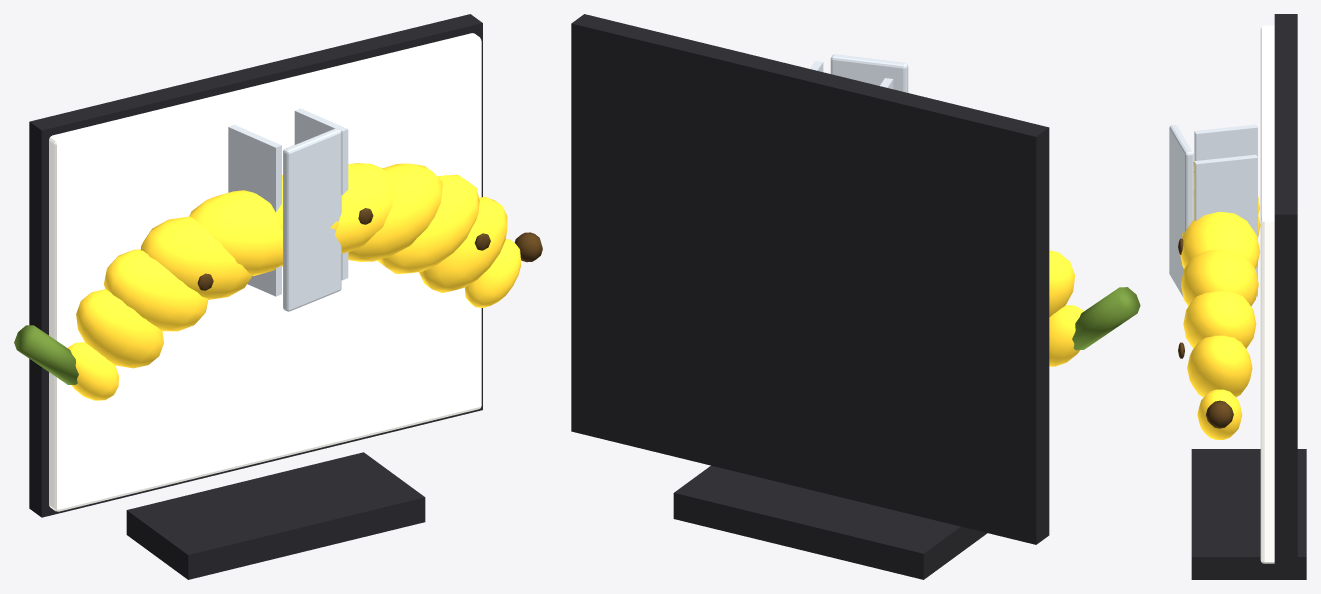
File: platano.glb
The picture shows the model from 3 angles, left to right: view 1: azimuth 30°, elevation 25°; view 2: azimuth 150°, elevation 25°; view 3: azimuth 270°, elevation 25°; orthographic projection. The views are drawn at different scales.
Visible parts, largest first — view 1: platano_panel, platano_pie_panel, platano_panel_marco, platano_cinta, platano_gajo_2, platano_gajo_3, platano_gajo_4, platano_gajo_1, platano_gajo_7, platano_gajo_8, platano_cinta_lado_0, platano_gajo_9 (+5 smaller); view 2: platano_panel_marco, platano_pie_panel, platano_rabito, platano_cinta, platano_gajo_0, platano_gajo_1; view 3: platano_panel_marco, platano_pie_panel, platano_panel, platano_cinta_lado_1, platano_gajo_9, platano_gajo_7, platano_gajo_8, platano_cinta, platano_gajo_6, platano_cinta_lado_0, platano_gajo_10, platano_punta.
Boxes of the visible parts, left/top/right/bottom form: platano_panel: left=49, top=33, right=481, bottom=511; platano_pie_panel: left=126, top=452, right=425, bottom=579; platano_panel_marco: left=29, top=14, right=482, bottom=517; platano_cinta: left=283, top=128, right=341, bottom=311; platano_gajo_2: left=104, top=249, right=208, bottom=331; platano_gajo_3: left=140, top=216, right=253, bottom=299; platano_gajo_4: left=189, top=190, right=282, bottom=275; platano_gajo_1: left=76, top=289, right=163, bottom=368; platano_gajo_7: left=348, top=163, right=442, bottom=261; platano_gajo_8: left=377, top=174, right=479, bottom=273; platano_cinta_lado_0: left=228, top=124, right=281, bottom=296; platano_gajo_9: left=419, top=196, right=507, bottom=292; platano_panel_marco: left=571, top=14, right=1049, bottom=544; platano_pie_panel: left=673, top=465, right=987, bottom=579; platano_rabito: left=1072, top=287, right=1140, bottom=350; platano_cinta: left=830, top=54, right=908, bottom=92; platano_gajo_0: left=1049, top=305, right=1083, bottom=366; platano_gajo_1: left=1049, top=250, right=1075, bottom=316; platano_panel_marco: left=1274, top=14, right=1297, bottom=575; platano_pie_panel: left=1191, top=449, right=1306, bottom=579; platano_panel: left=1260, top=25, right=1274, bottom=563; platano_cinta_lado_1: left=1194, top=154, right=1257, bottom=296; platano_gajo_9: left=1187, top=335, right=1252, bottom=397; platano_gajo_7: left=1181, top=249, right=1258, bottom=306; platano_gajo_8: left=1183, top=291, right=1256, bottom=348; platano_cinta: left=1169, top=125, right=1193, bottom=296; platano_gajo_6: left=1180, top=212, right=1260, bottom=268; platano_cinta_lado_0: left=1194, top=124, right=1257, bottom=160; platano_gajo_10: left=1197, top=389, right=1242, bottom=439; platano_punta: left=1206, top=400, right=1233, bottom=428.
Size of the model in its own units: 0.4425 by 0.356 by 0.1076.
